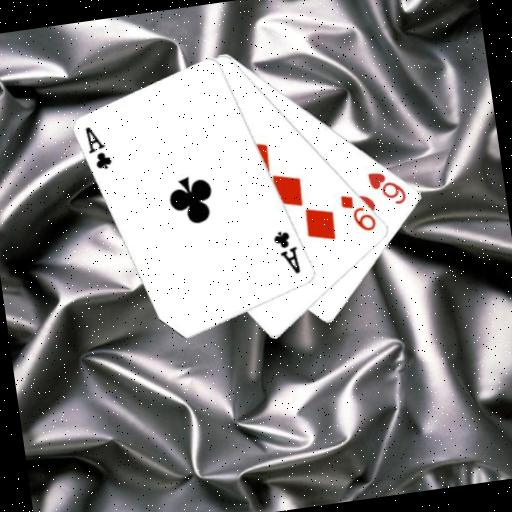6H: (364, 165, 410, 210)
9D: (337, 188, 380, 237)
AC: (270, 227, 304, 279), (82, 121, 116, 173)
